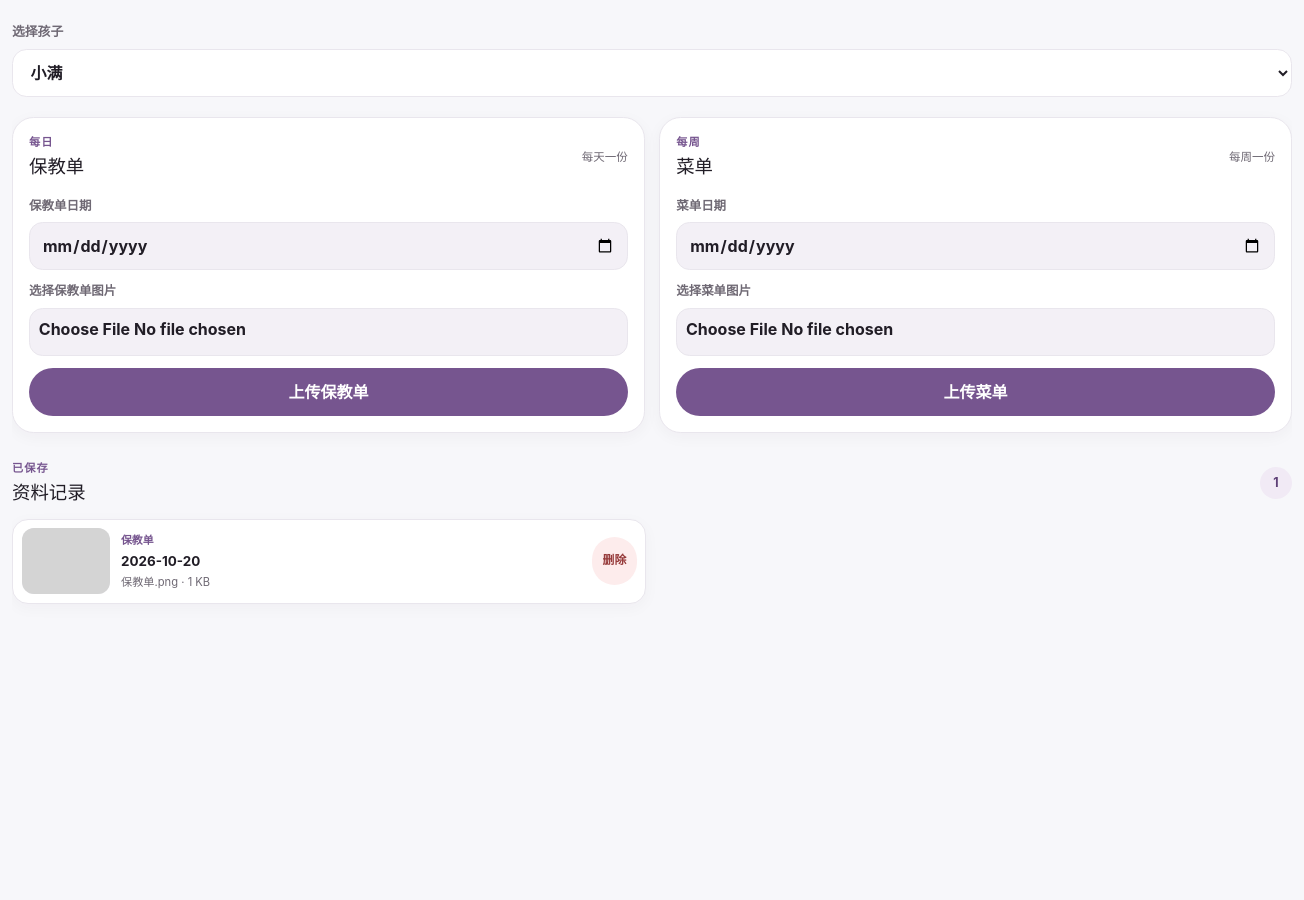
Test: kindergarten document manager › confirms deletion, sends CSRF, and refreshes history
Click the button with aria-label "删除 2026-10-20 保教单": [614, 561] box [592,537,637,585]
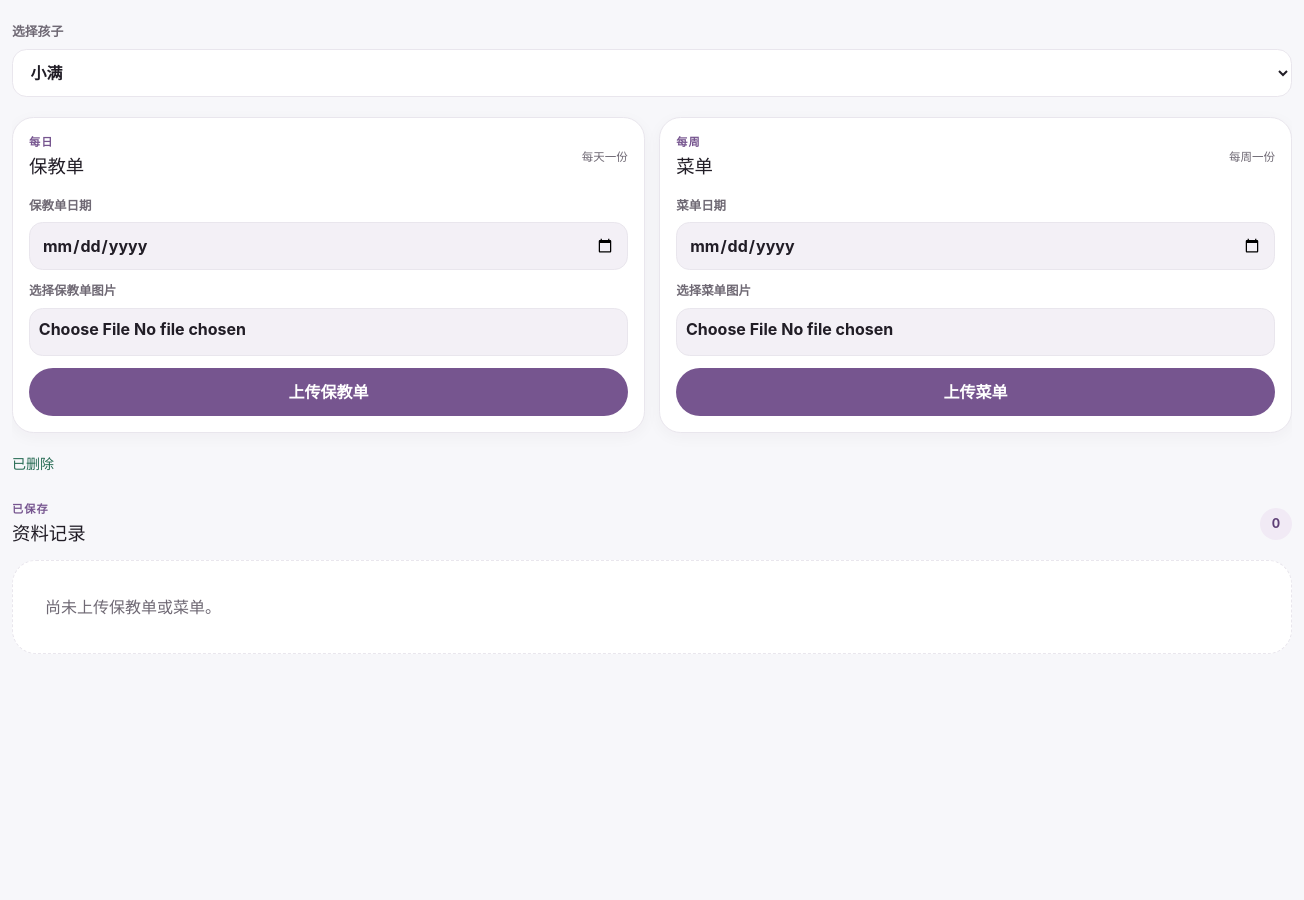
Check: the text "保教单.png" is gone
